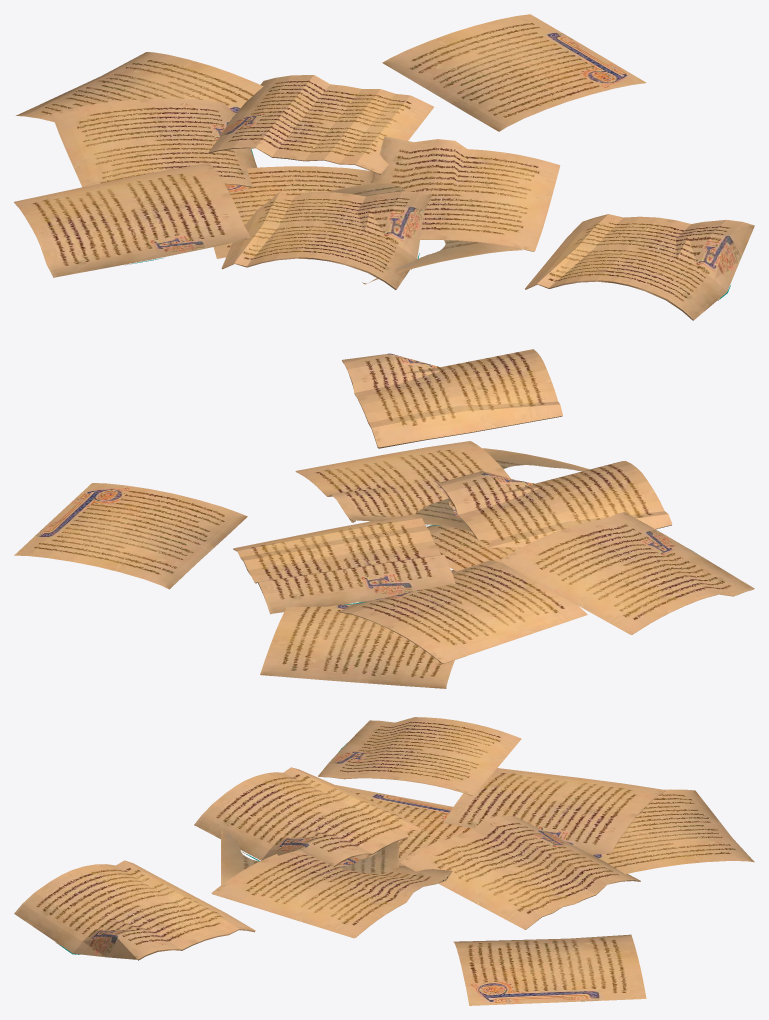
The picture shows the model from 3 angles, top to bottom: view 1: azimuth 30°, elevation 25°; view 2: azimuth 150°, elevation 25°; view 3: azimuth 270°, elevation 25°; orthographic projection. The views are drawn at different scales.
Parts seen in each view (by area): view 1: SM_Papers_01_LOD0; view 2: SM_Papers_01_LOD0; view 3: SM_Papers_01_LOD0.
Part boxes in pixels (x1,y1,x2,y2): SM_Papers_01_LOD0: [14, 14, 754, 320]; SM_Papers_01_LOD0: [14, 349, 754, 688]; SM_Papers_01_LOD0: [14, 717, 754, 1005].
Bounding box in the file's own units: 1.25 × 0.0794 × 1.39.
Materials: 1 (1 with a texture image).
